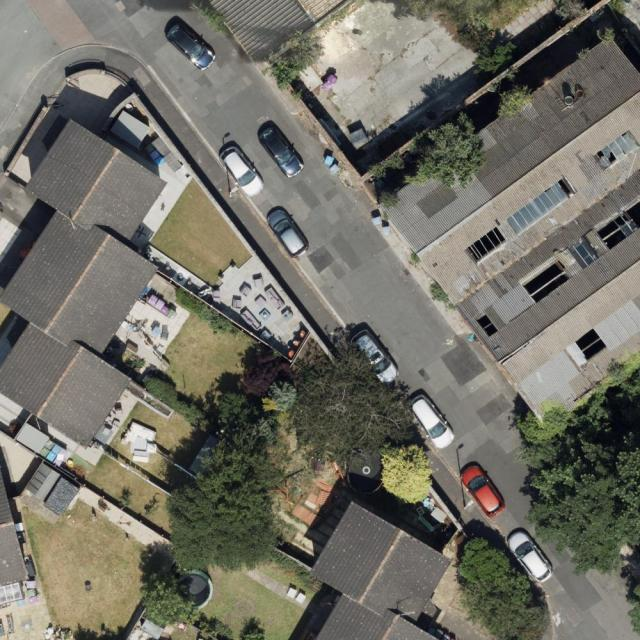roof: (376, 34, 640, 439), (0, 119, 169, 451), (311, 501, 454, 640), (204, 0, 350, 72), (0, 468, 29, 607)
skylight: (504, 179, 571, 238)
